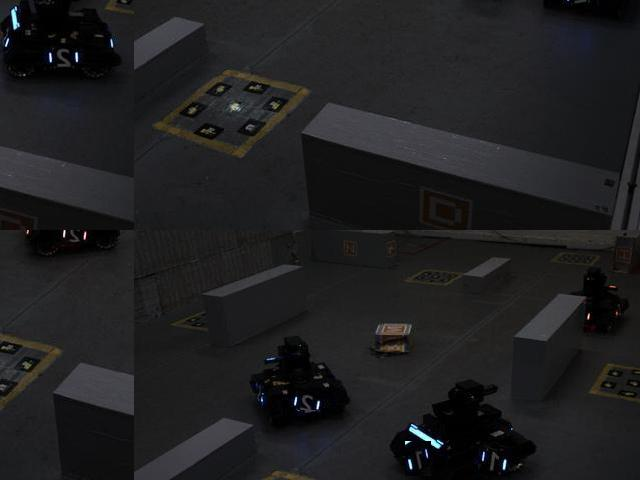armor: (45, 43, 83, 74), (405, 441, 432, 477), (478, 446, 509, 477), (291, 391, 325, 412), (56, 230, 94, 244), (563, 0, 599, 12)
